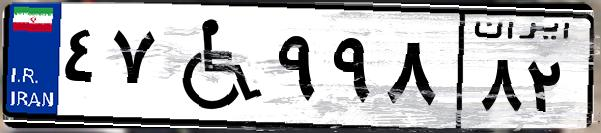2: (525, 38, 570, 115)
4: (57, 26, 110, 100)
7: (110, 28, 158, 98)
8: (385, 28, 445, 110), (475, 38, 525, 113)
9: (270, 28, 330, 110), (330, 28, 385, 110)
ژ (معلولین و جانبازان): (158, 12, 270, 120)
